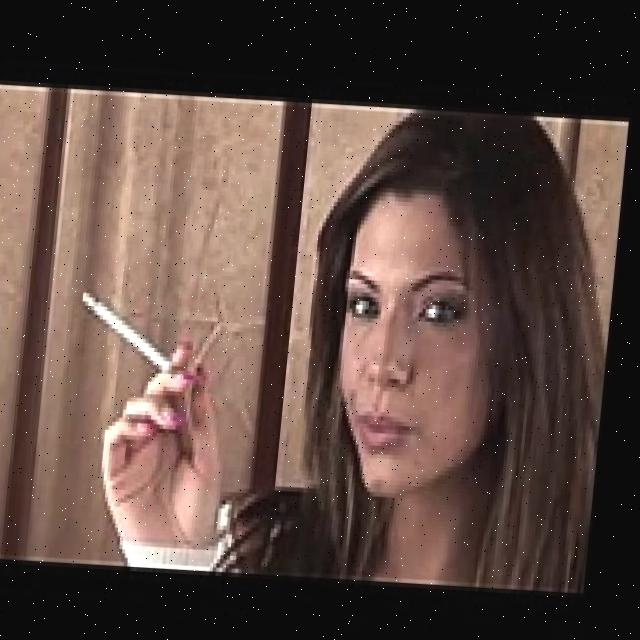cigarette: (80, 288, 187, 373)
